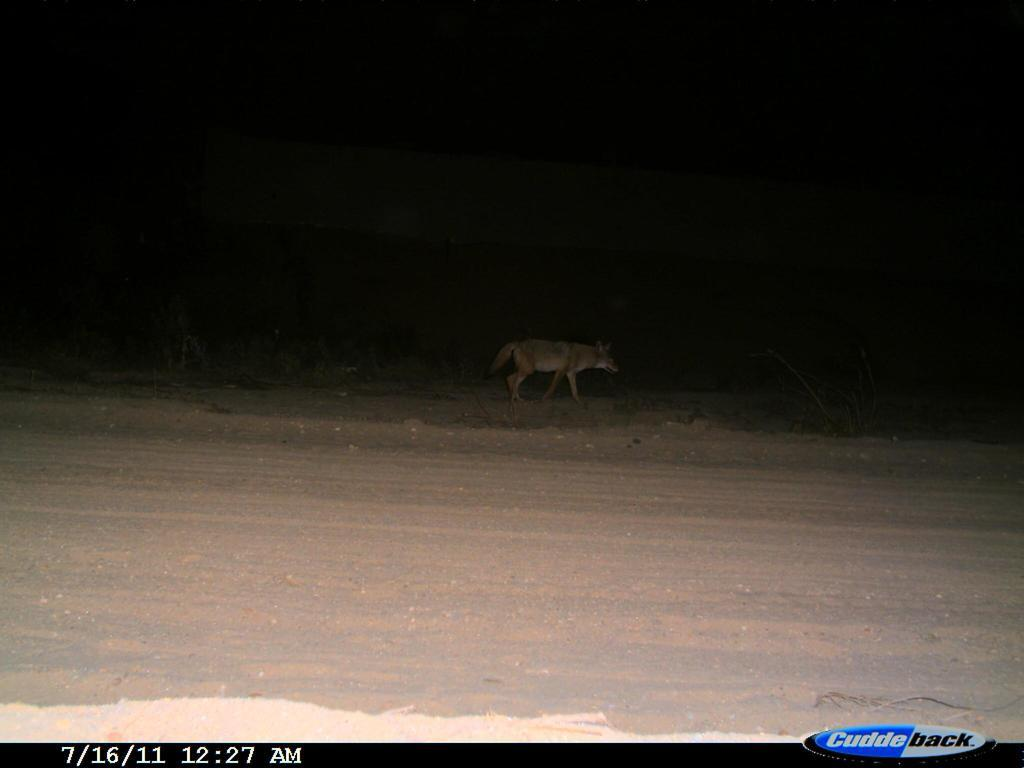coyote: (487, 333, 623, 411)
